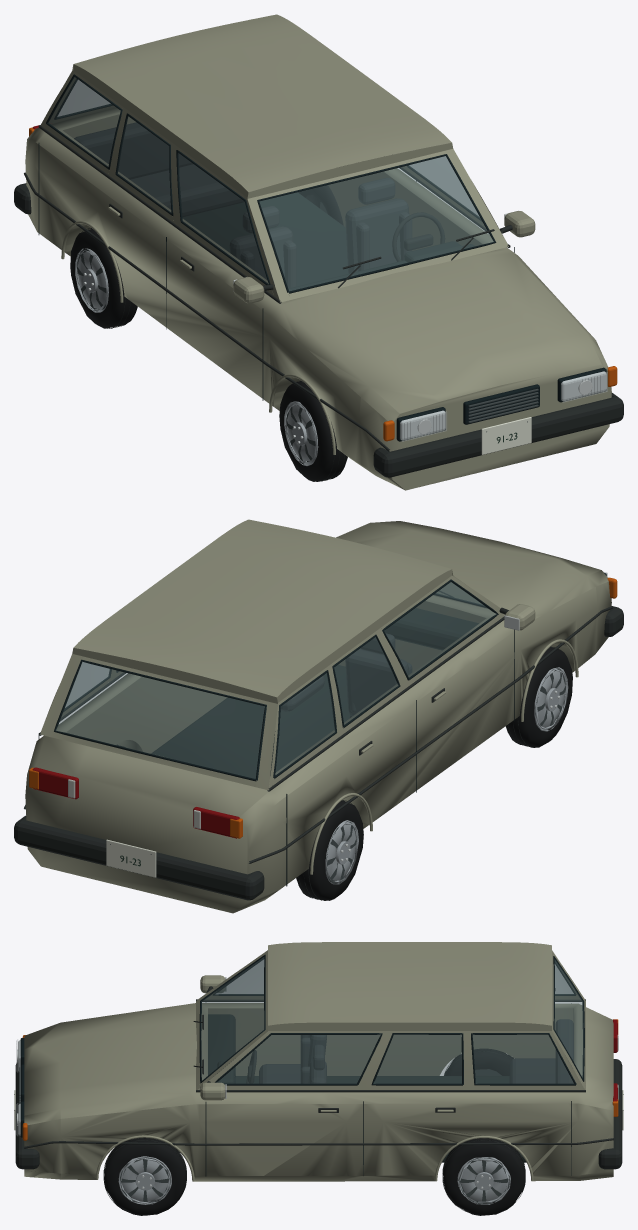
Rendered from utility-wagon-lod1.glb.
The picture shows the model from 3 angles, top to bottom: view 1: azimuth 30°, elevation 25°; view 2: azimuth 150°, elevation 25°; view 3: azimuth 270°, elevation 25°; orthographic projection. The views are drawn at different scales.
Parts seen in each view (by area): view 1: formed steel body, windshield, cloth cushion, belt molding, interior floor, windshield gasket, tire casing, rim bead, headrest post, headlamp reflector, fluted headlamp cover, registration plate; view 2: formed steel body, windshield, interior floor, belt molding, tire casing, windshield gasket, cloth cushion, rim bead, rear combination lamp, registration plate, headrest post, front indicator; view 3: formed steel body, windshield, tire casing, belt molding, windshield gasket, cloth cushion, rim bead, interior floor, headrest post.
Boxes of the visible parts, bbox=[...] form: formed steel body: bbox=[25, 14, 611, 490]; windshield: bbox=[48, 77, 493, 292]; cloth cushion: bbox=[74, 122, 412, 288]; belt molding: bbox=[14, 125, 623, 481]; interior floor: bbox=[183, 192, 474, 291]; windshield gasket: bbox=[38, 74, 606, 441]; tire casing: bbox=[70, 185, 347, 481]; rim bead: bbox=[75, 248, 318, 465]; headrest post: bbox=[77, 202, 538, 461]; headlamp reflector: bbox=[400, 371, 606, 440]; fluted headlamp cover: bbox=[402, 372, 607, 441]; registration plate: bbox=[481, 417, 531, 454]; formed steel body: bbox=[25, 519, 611, 913]; windshield: bbox=[56, 582, 496, 778]; interior floor: bbox=[151, 608, 478, 778]; belt molding: bbox=[14, 591, 623, 900]; tire casing: bbox=[117, 646, 572, 900]; windshield gasket: bbox=[38, 573, 606, 886]; cloth cushion: bbox=[260, 633, 412, 717]; rim bead: bbox=[325, 667, 568, 884]; rear combination lamp: bbox=[32, 767, 239, 838]; registration plate: bbox=[106, 839, 156, 877]; headrest post: bbox=[110, 668, 565, 883]; front indicator: bbox=[29, 577, 617, 838]; formed steel body: bbox=[24, 942, 613, 1181]; windshield: bbox=[201, 957, 583, 1083]; tire casing: bbox=[104, 1049, 525, 1215]; belt molding: bbox=[15, 986, 622, 1215]; windshield gasket: bbox=[20, 954, 584, 1176]; cloth cushion: bbox=[259, 1019, 573, 1083]; rim bead: bbox=[118, 1156, 510, 1204]; interior floor: bbox=[208, 1014, 526, 1162]; headrest post: bbox=[14, 1067, 623, 1203].
Bounding box in the file's own units: 1.92 × 1.48 × 4.32.
